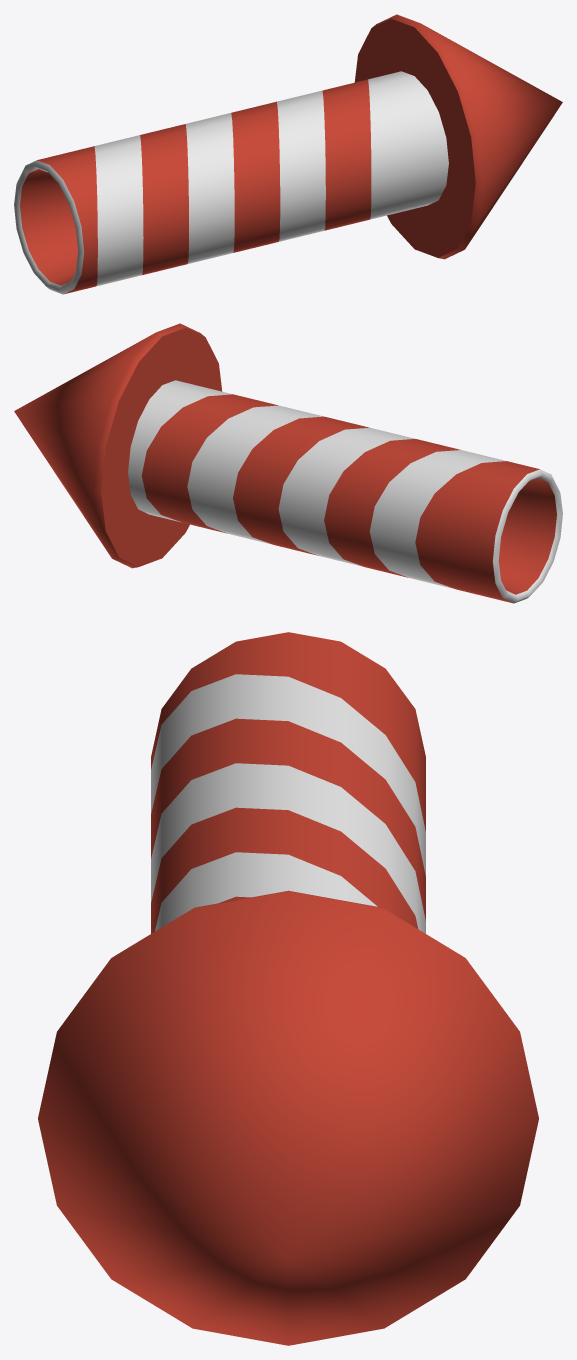
Rendered from Firework.FBX.
3 views of the same model, one above another, from view 1: azimuth 30°, elevation 25°; view 2: azimuth 150°, elevation 25°; view 3: azimuth 270°, elevation 25° (orthographic). The views are drawn at different scales.
Visible parts, largest first — view 1: Firework; view 2: Firework; view 3: Firework.
Boxes of the visible parts, x1,y1,x2,y2 form: Firework: [14, 14, 562, 294]; Firework: [14, 323, 562, 603]; Firework: [38, 632, 538, 1345].
Size of the model in its own units: 187 by 78.37 by 78.37.
